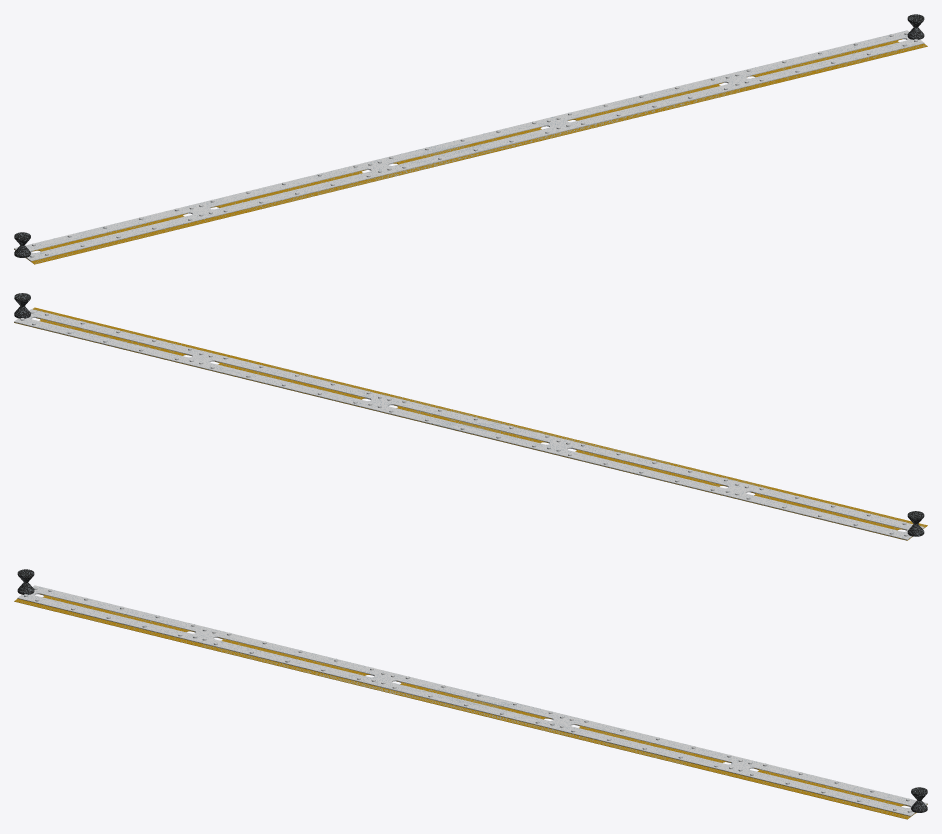
The model's file is Gelas Duga.dae.
3 renders of one model, top to bottom at view 1: azimuth 30°, elevation 25°; view 2: azimuth 150°, elevation 25°; view 3: azimuth 330°, elevation 25°, orthographic.
Visible parts, largest first — view 1: group_3 (×5), group_0, group_2, group_4, group_5, group_7; view 2: group_3 (×5), group_0, group_7, group_2, group_6, group_5, group_4; view 3: group_3 (×5), group_0, group_5, group_7, group_2, group_4, group_6.
Boxes of the visible parts, x1,y1,x2,y2 form: group_3 (×5): (14,30,924,261); group_0: (31,44,927,264); group_2: (14,214,209,261); group_4: (210,170,388,217); group_5: (746,40,923,87); group_7: (567,83,744,130); group_3 (×5): (14,309,924,539); group_0: (32,307,927,527); group_7: (192,362,371,409); group_2: (729,493,923,540); group_6: (371,406,549,453); group_5: (14,318,192,365); group_4: (550,449,727,496); group_3 (×5): (17,585,927,816); group_0: (14,599,910,819); group_5: (732,769,927,816); group_7: (553,725,731,772); group_2: (18,595,195,642); group_4: (198,638,374,685); group_6: (400,682,552,729).
Size of the model in its own units: 60 by 2.36 by 1.26.
